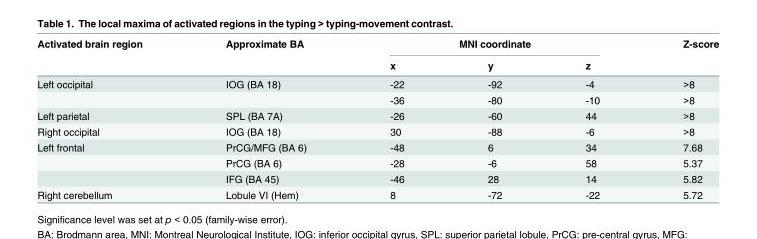table: (36, 37, 718, 200)
table column: (183, 37, 347, 200), (36, 37, 183, 200), (347, 37, 445, 200), (542, 37, 640, 200), (445, 37, 542, 200), (640, 37, 718, 200)
table column header: (36, 37, 718, 74)
table row: (36, 53, 718, 74), (36, 74, 718, 91), (36, 37, 718, 53), (36, 91, 718, 107), (36, 107, 718, 123), (36, 123, 718, 139), (36, 154, 718, 170), (36, 170, 718, 186), (36, 139, 718, 154), (36, 186, 718, 200)
table spanning cell: (36, 139, 183, 186), (183, 37, 347, 74), (36, 37, 183, 74), (36, 74, 183, 107), (347, 37, 640, 53), (640, 37, 718, 74)
